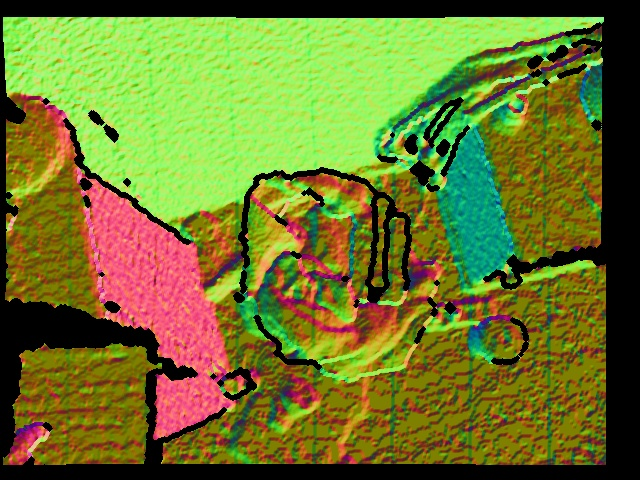station: (351, 195, 406, 305)
